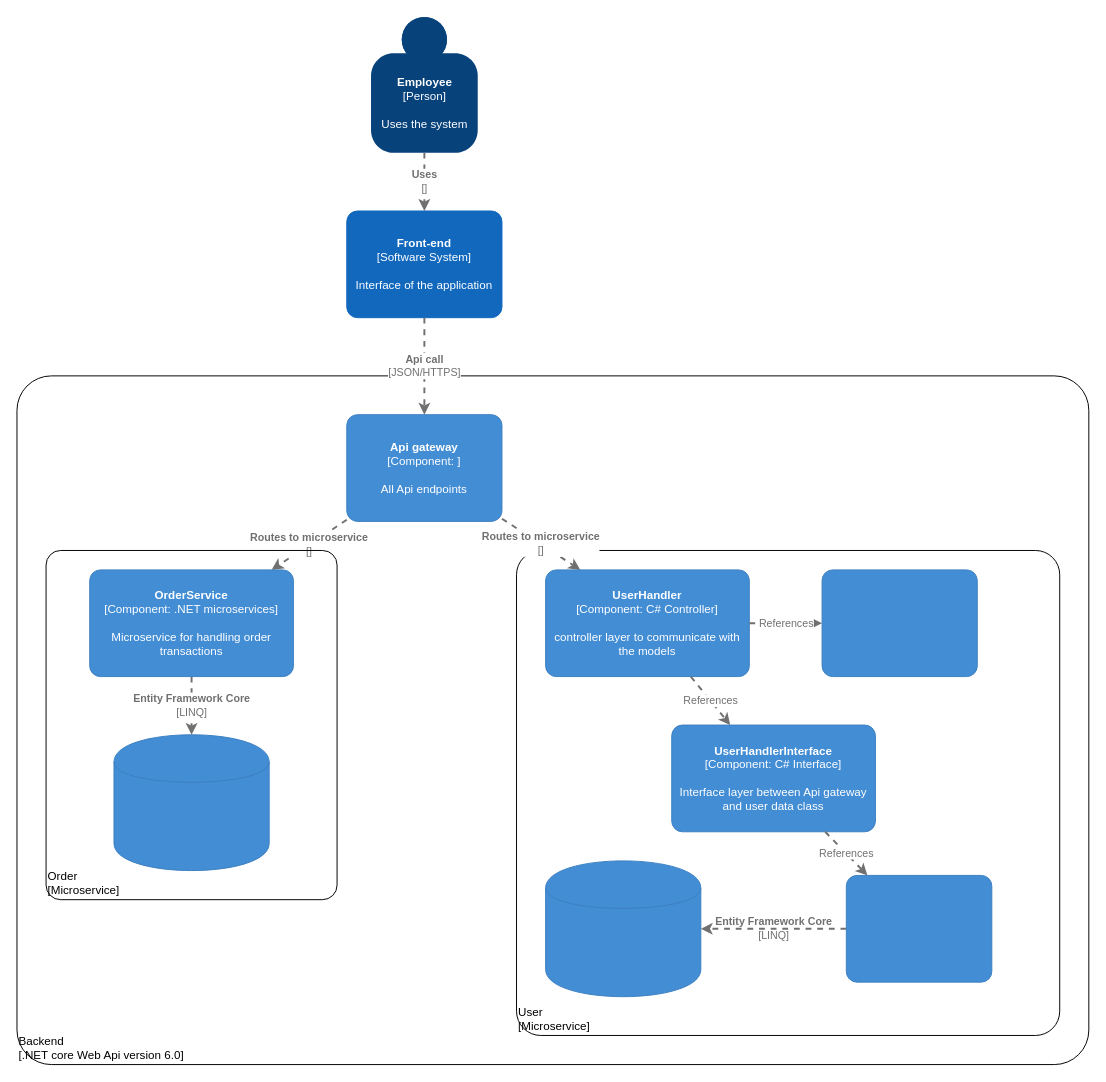
Image size: 1106x1082. Some labels were removed from this diagram. Here are the shapes that lost their labels. From the top down, the centre of each, then its label:
At point 899,623: "UserModel [Component: C# Class] Model with variables of the user".
At point 191,802: "Database [Container: MYSQL] Database for orders".
At point 623,928: "Database [Container: MYSQL] Database with user data".
At point 918,928: "UserHandlerDAL [Component: C# Class] Data class connection to database".
